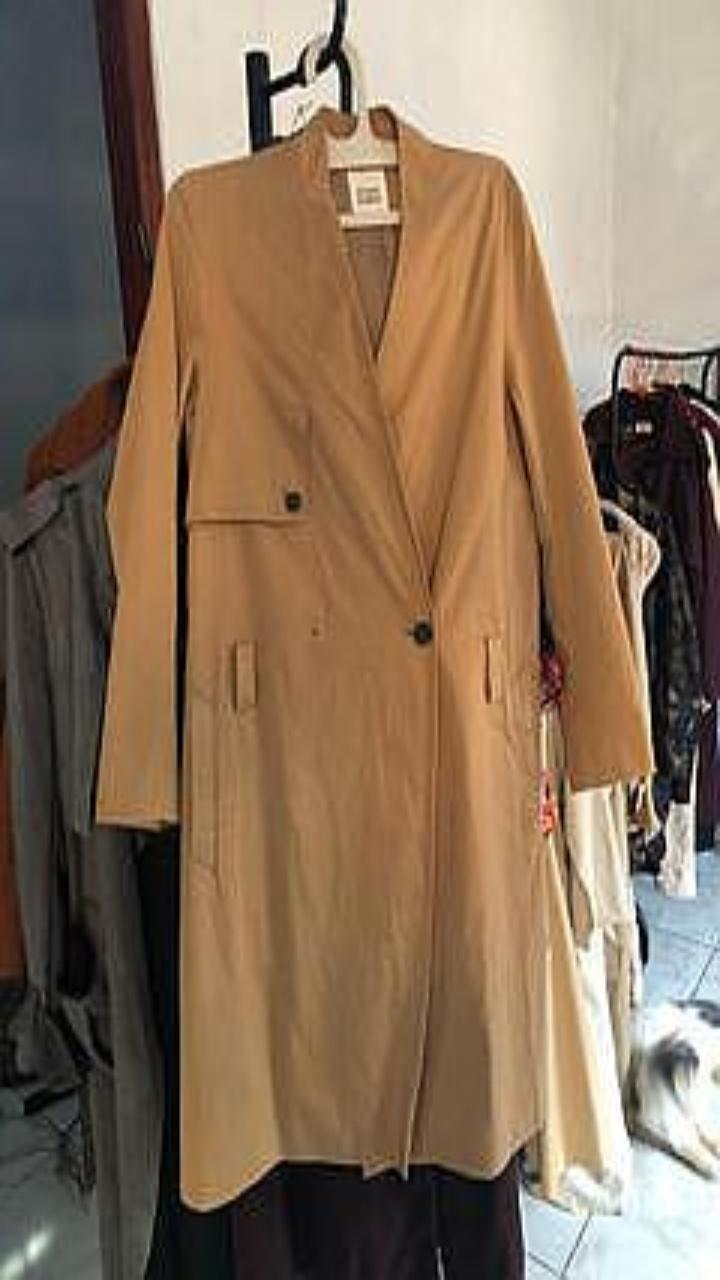Coat: (97, 106, 651, 1206), (0, 441, 163, 1279)
